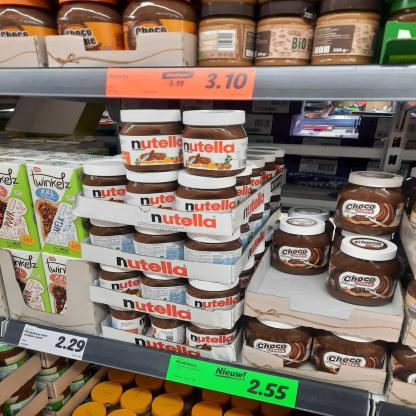prtg: (166, 356, 300, 409), (107, 68, 257, 101), (19, 325, 89, 362)
